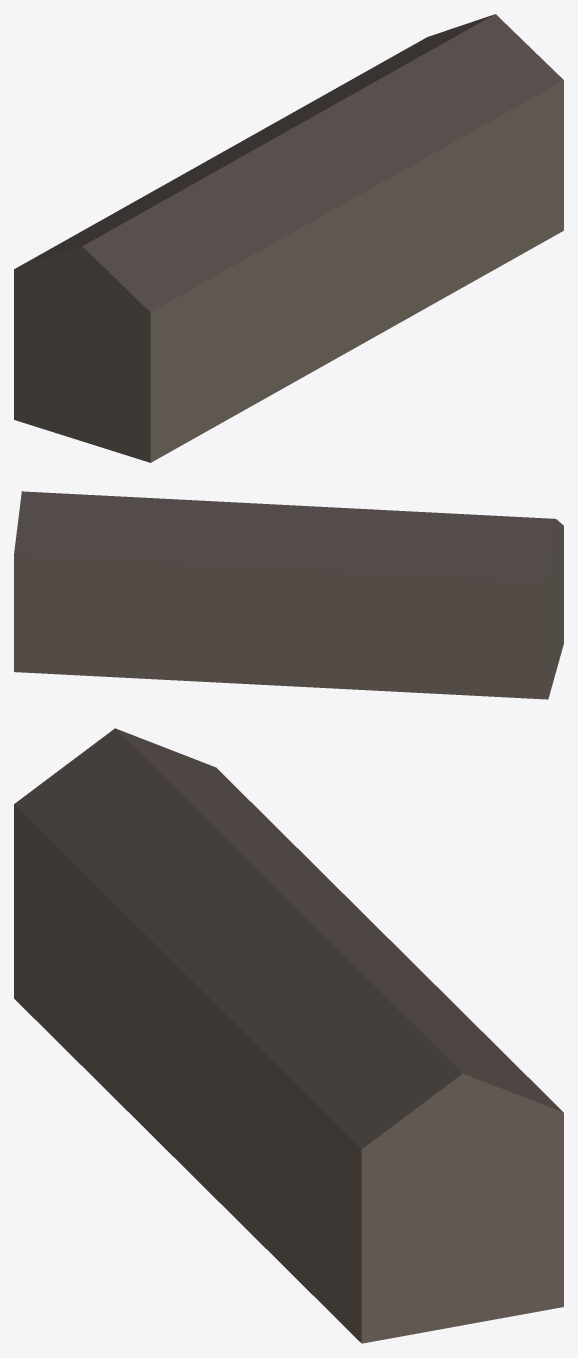
3 renders of one model, top to bottom at view 1: azimuth 30°, elevation 25°; view 2: azimuth 150°, elevation 25°; view 3: azimuth 270°, elevation 25°, orthographic. The views are drawn at different scales.
Parts seen in each view (by area): view 1: HP-w859082451; view 2: HP-w859082451; view 3: HP-w859082451.
Boxes of the visible parts, bbox=[...] form: HP-w859082451: bbox=[14, 14, 563, 462]; HP-w859082451: bbox=[14, 491, 563, 699]; HP-w859082451: bbox=[14, 728, 563, 1343].
Size of the model in its own units: 37.95 by 11.67 by 23.09.
